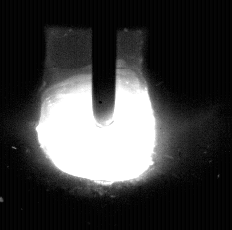arame: (93, 0, 117, 128)
poca: (36, 0, 157, 230)
